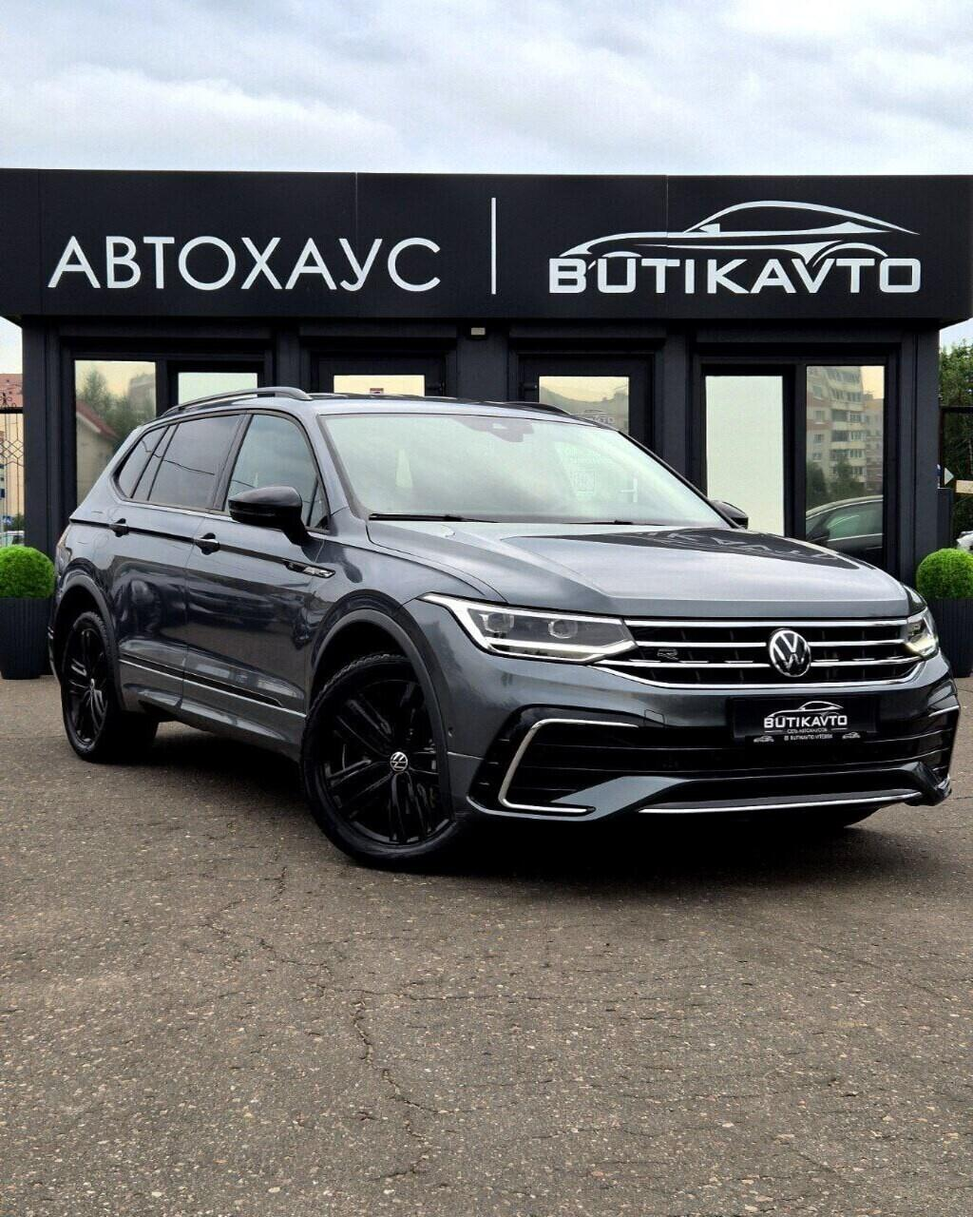Tiguan_2020-2024: (35, 390, 961, 878)
